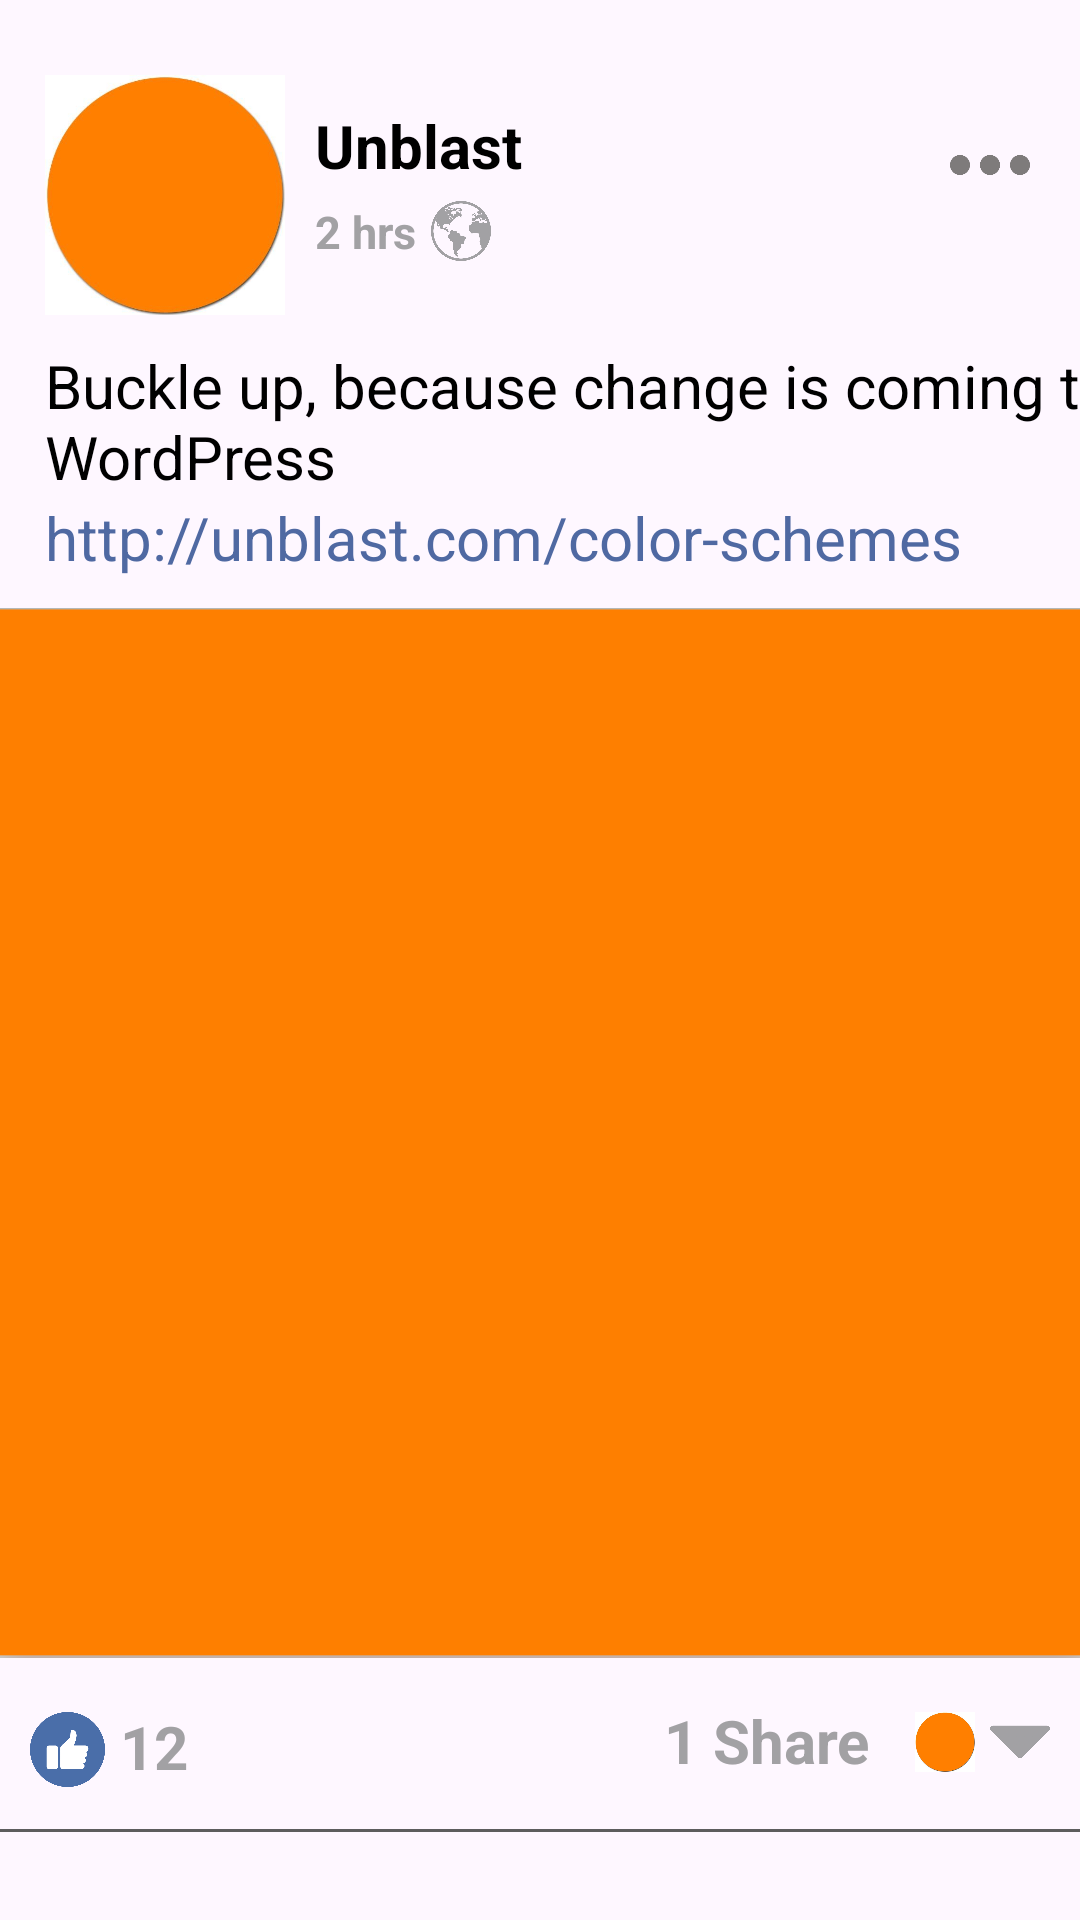

Icon click points for this 1080w x 1920h phone screenshot, format [x,y]:
arrow: [1020,1742]
earth: [461,231]
